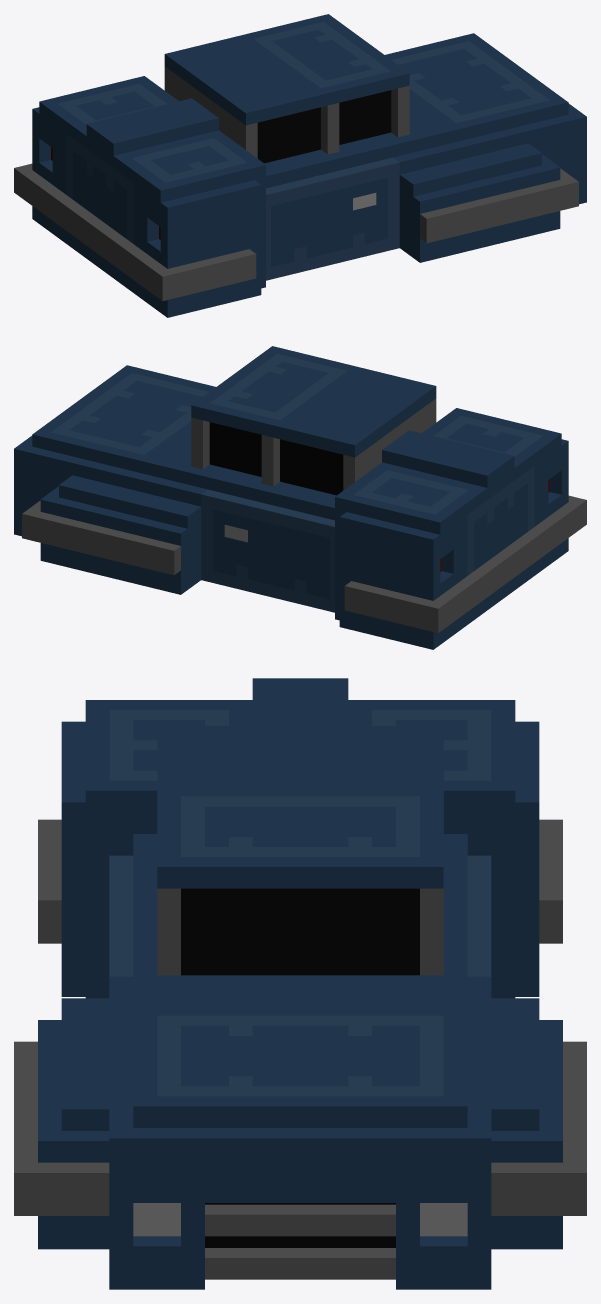
File: FlyingCar3.obj
The picture shows the model from 3 angles, top to bottom: view 1: azimuth 30°, elevation 25°; view 2: azimuth 150°, elevation 25°; view 3: azimuth 270°, elevation 25°; orthographic projection. The views are drawn at different scales.
Size of the model in its own units: 3.8 by 1.3 by 2.4.
Materials: 1 (1 with a texture image).
